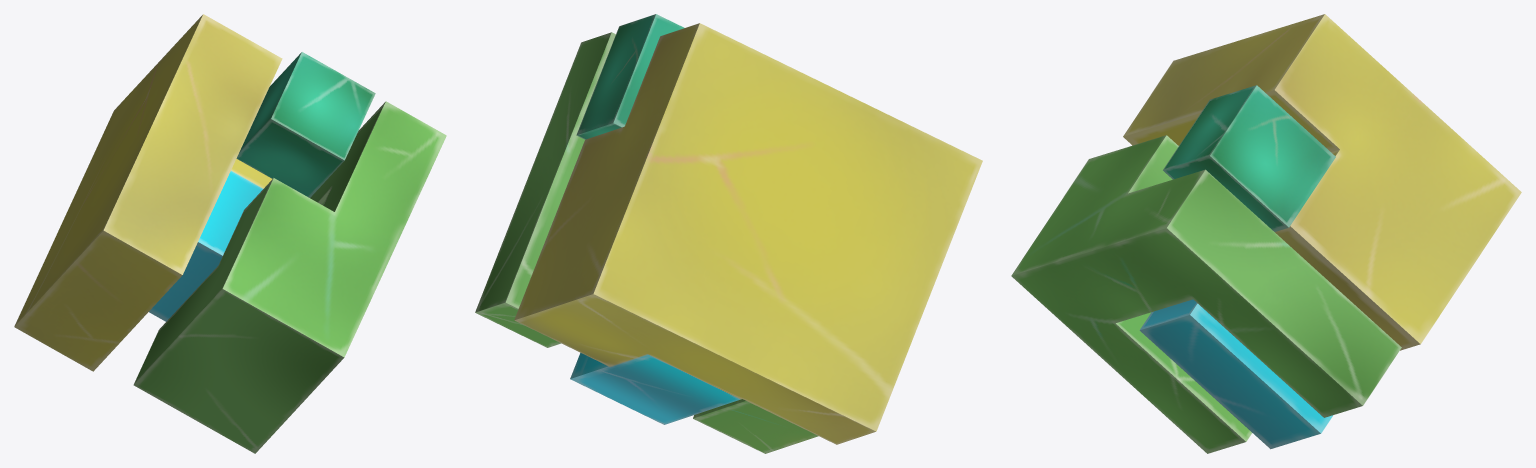
Rendered from judian_6.FBX.
The picture shows the model from 3 angles, left to right: view 1: azimuth 30°, elevation 25°; view 2: azimuth 150°, elevation 25°; view 3: azimuth 270°, elevation 25°; orthographic projection. The views are drawn at different scales.
Visible parts, largest first — view 1: judian_6; view 2: judian_6; view 3: judian_6.
Part boxes in pixels (box(x1,y1,x2,y2)): judian_6: box(14, 14, 446, 453); judian_6: box(475, 14, 982, 453); judian_6: box(1011, 14, 1521, 453).
Size of the model in its own units: 37.75 by 42.46 by 44.58.
